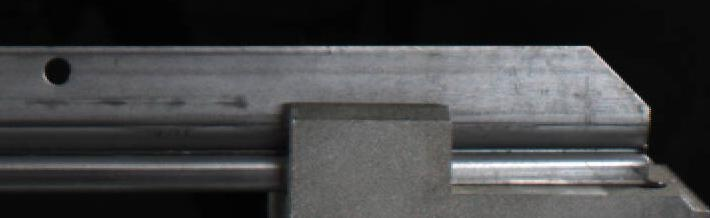cut: (466, 38, 665, 189)
holes: (42, 56, 71, 84)
